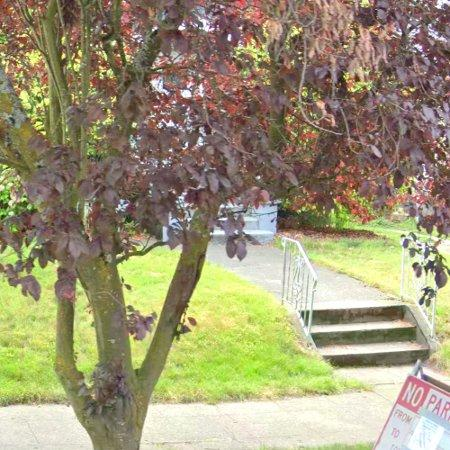stairs: (312, 306, 430, 367)
